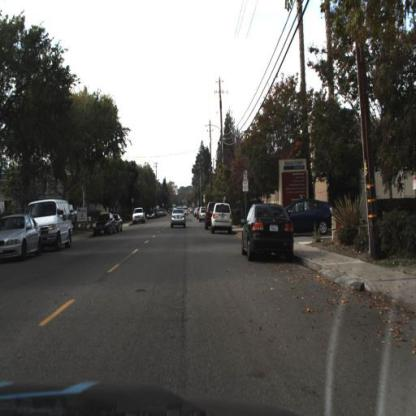car: (241, 201, 296, 265), (1, 216, 42, 263), (42, 200, 74, 250), (290, 200, 335, 234), (210, 203, 235, 235), (92, 210, 116, 240), (92, 213, 117, 238), (169, 207, 187, 233), (131, 205, 149, 228), (170, 209, 188, 229), (113, 213, 125, 236)
